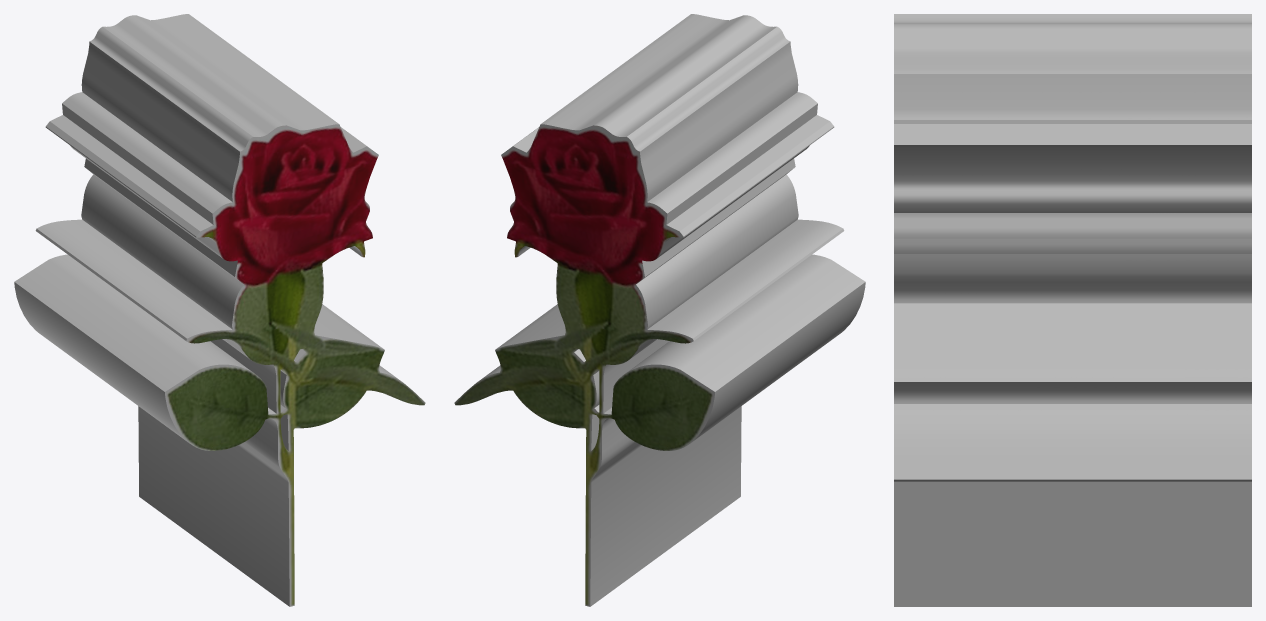
The picture shows the model from 3 angles, left to right: view 1: azimuth 30°, elevation 25°; view 2: azimuth 150°, elevation 25°; view 3: azimuth 270°, elevation 25°; orthographic projection. The views are drawn at different scales.
Visible parts, largest first — view 1: Layer 1; view 2: Layer 1; view 3: Layer 1.
Part boxes in pixels (bbox=[...]): Layer 1: bbox=[14, 14, 425, 606]; Layer 1: bbox=[454, 14, 865, 606]; Layer 1: bbox=[894, 14, 1251, 606].
Bounding box in the file's own units: 0.257 × 0.4547 × 0.257.
Materials: 3 (3 with a texture image).
